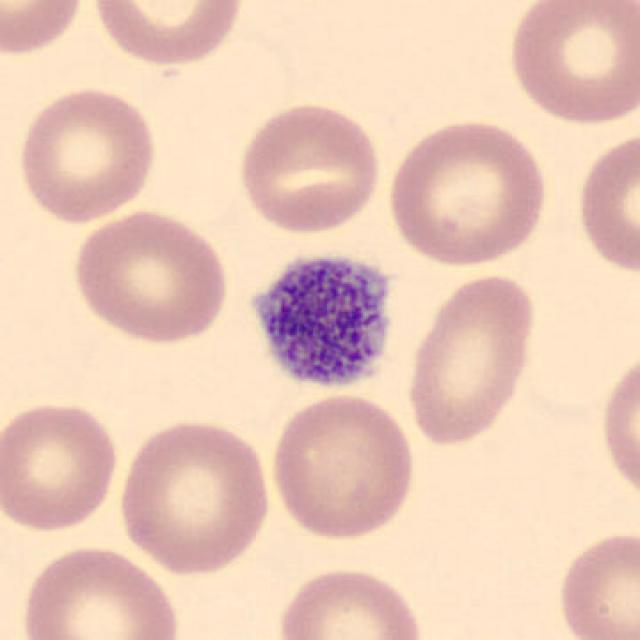Platelets: (240, 244, 404, 398)
RBC: (382, 114, 551, 270), (114, 416, 276, 578), (402, 270, 540, 450), (265, 390, 418, 543), (68, 206, 231, 348), (12, 83, 160, 226), (233, 97, 384, 236), (503, 0, 638, 129), (0, 397, 123, 536), (16, 541, 185, 640), (272, 562, 428, 640), (87, 0, 247, 69), (572, 126, 640, 280), (553, 525, 638, 640), (595, 342, 640, 509), (0, 0, 89, 58)
